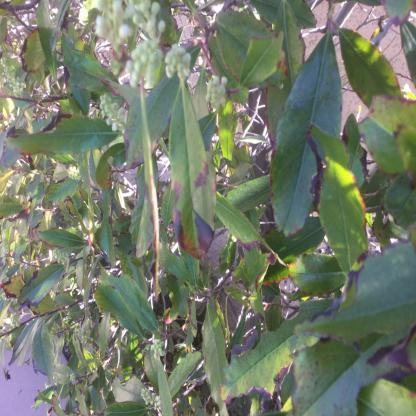Cherry leaf: (264, 25, 352, 273), (214, 310, 346, 410), (316, 108, 380, 300), (163, 73, 222, 272), (82, 256, 171, 352), (0, 115, 128, 173), (17, 251, 72, 320), (28, 211, 96, 262), (39, 170, 93, 221)
